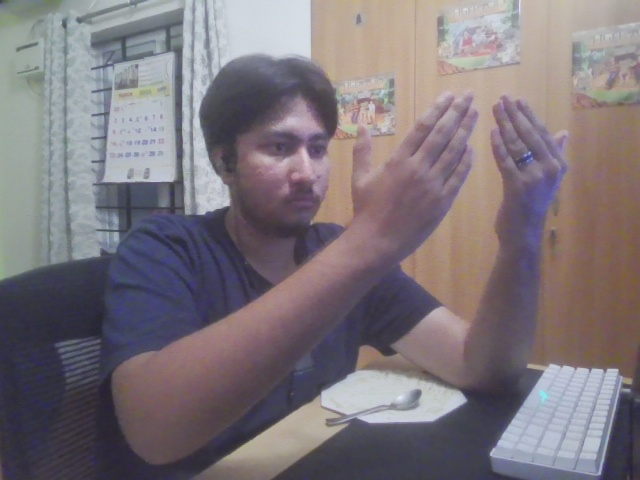thankyou: (347, 87, 573, 248)
